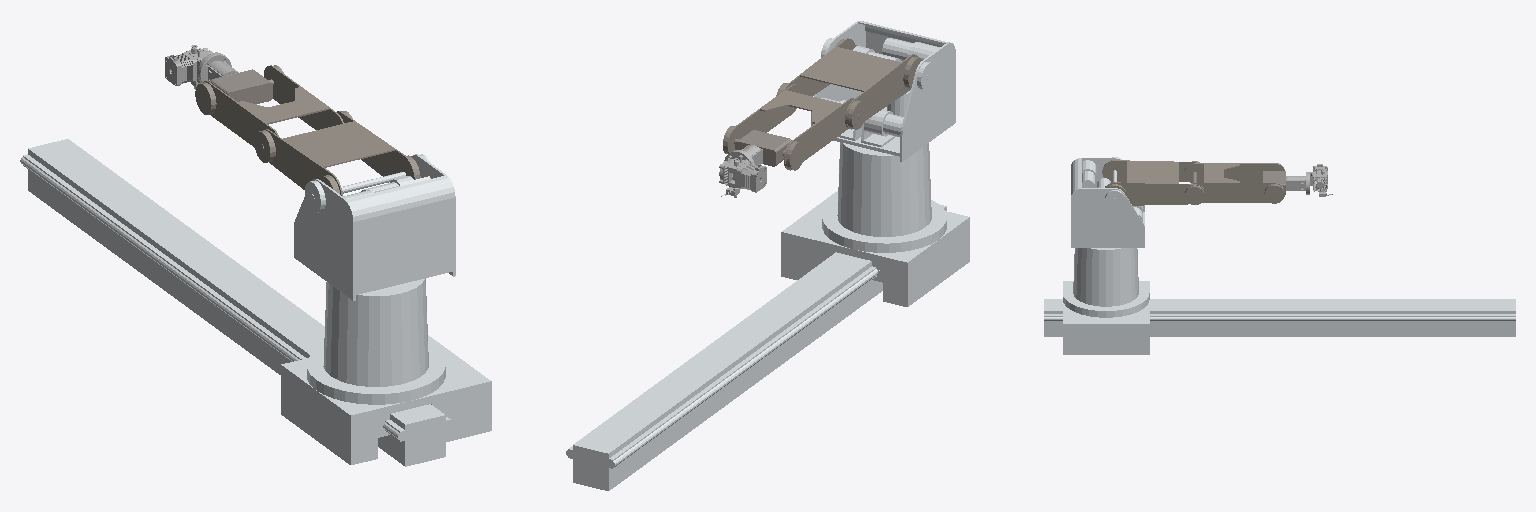
robot.urdf — scorbot:
<?xml version="1.0" encoding="utf-8"?>
<robot
  name="scorbot">
  <link name="world">
  </link>
  <link
    name="base_link">
    <inertial>
      <origin
        xyz="6.9389E-18 0.65 0.041357"
        rpy="0 0 0" />
      <mass
        value="24.144" />
      <inertia
        ixx="3.4129"
        ixy="-2.7635E-18"
        ixz="1.5076E-18"
        iyy="0.028252"
        iyz="3.1049E-17"
        izz="3.416" />
    </inertial>
    <visual>
      <origin
        xyz="0 0 0"
        rpy="0 0 0" />
      <geometry>
        <mesh
          filename="package://scorbot/meshes/slide_base_link.STL" />
      </geometry>
      <material
        name="">
        <color
          rgba="0.89804 0.91765 0.92941 1" />
      </material>
    </visual>
    <collision>
      <origin
        xyz="0 0 0"
        rpy="0 0 0" />
      <geometry>
        <mesh
          filename="package://scorbot/meshes/slide_base_link.STL" />
      </geometry>
    </collision>
  </link>
  <joint name="world_joint" type="fixed">
    <parent link="world" />
    <child link="base_link" />
  </joint>
  <link
    name="slide_base_link">
    <inertial>
      <origin
        xyz="-0.012271 0.012815 0"
        rpy="0 0 0" />
      <mass
        value="5.7681" />
      <inertia
        ixx="0.071205"
        ixy="-0.0043325"
        ixz="6.0569E-17"
        iyy="0.070116"
        iyz="2.4488E-17"
        izz="0.08178" />
    </inertial>
    <visual>
      <origin
        xyz="0 0 0"
        rpy="0 0 0" />
      <geometry>
        <mesh
          filename="package://scorbot/meshes/base_link.STL" />
      </geometry>
      <material
        name="">
        <color
          rgba="0.89804 0.91765 0.92941 1" />
      </material>
    </visual>
    <collision>
      <origin
        xyz="0 0 0"
        rpy="0 0 0" />
      <geometry>
        <mesh
          filename="package://scorbot/meshes/base_link.STL" />
      </geometry>
    </collision>
  </link>
  <joint
    name="slide_base_joint"
    type="prismatic">
    <origin
      xyz="0 0.17 0.096"
      rpy="1.5708 0 3.1416" />
    <parent
      link="base_link" />
    <child
      link="slide_base_link" />
    <axis
      xyz="0 0 1" />
    <limit
      lower="0"
      upper="0.9"
      effort="0"
      velocity="0" />
  </joint>
  <link
    name="body_link">
    <inertial>
      <origin
        xyz="-0.0024124 0.0019378 -0.070016"
        rpy="0 0 0" />
      <mass
        value="4.1847" />
      <inertia
        ixx="0.029582"
        ixy="0.00098745"
        ixz="0.0042693"
        iyy="0.027732"
        iyz="-0.00082029"
        izz="0.03323" />
    </inertial>
    <visual>
      <origin
        xyz="0 0 0"
        rpy="0 0 0" />
      <geometry>
        <mesh
          filename="package://scorbot/meshes/body_link.STL" />
      </geometry>
      <material
        name="">
        <color
          rgba="0.89804 0.91765 0.92941 1" />
      </material>
    </visual>
    <collision>
      <origin
        xyz="0 0 0"
        rpy="0 0 0" />
      <geometry>
        <mesh
          filename="package://scorbot/meshes/body_link.STL" />
      </geometry>
    </collision>
  </link>
  <joint
    name="body_joint"
    type="continuous">
    <origin
      xyz="0 0.354 0"
      rpy="-1.5708 -1.5708 0" />
    <parent
      link="slide_base_link" />
    <child
      link="body_link" />
    <axis
      xyz="0 0 1" />
    <dynamics damping="0.7" />
  </joint>
  <link
    name="shoulder_link">
    <inertial>
      <origin
        xyz="0.10172 0.0057759 -4.0246E-16"
        rpy="0 0 0" />
      <mass
        value="2.1816" />
      <inertia
        ixx="0.011823"
        ixy="-3.4979E-05"
        ixz="1.0635E-17"
        iyy="0.028073"
        iyz="1.3636E-17"
        izz="0.017919" />
    </inertial>
    <visual>
      <origin
        xyz="0 0 0"
        rpy="0 0 0" />
      <geometry>
        <mesh
          filename="package://scorbot/meshes/shoulder_link.STL" />
      </geometry>
      <material
        name="">
        <color
          rgba="0.64706 0.61961 0.58824 1" />
      </material>
    </visual>
    <collision>
      <origin
        xyz="0 0 0"
        rpy="0 0 0" />
      <geometry>
        <mesh
          filename="package://scorbot/meshes/shoulder_link.STL" />
      </geometry>
    </collision>
  </link>
  <joint
    name="shoulder_joint"
    type="continuous">
    <origin
      xyz="0.025 0 0"
      rpy="1.5708 0 0" />
    <parent
      link="body_link" />
    <child
      link="shoulder_link" />
    <axis
      xyz="0 0 1" />
    <dynamics damping="0.7" />
  </joint>
  <link
    name="elbow_link">
    <inertial>
      <origin
        xyz="0.1333 0.0044924 1.249E-16"
        rpy="0 0 0" />
      <mass
        value="1.3299" />
      <inertia
        ixx="0.0056088"
        ixy="0.00042004"
        ixz="-1.9107E-17"
        iyy="0.014028"
        iyz="5.212E-20"
        izz="0.009294" />
    </inertial>
    <visual>
      <origin
        xyz="0 0 0"
        rpy="0 0 0" />
      <geometry>
        <mesh
          filename="package://scorbot/meshes/elbow_link.STL" />
      </geometry>
      <material
        name="">
        <color
          rgba="0.64706 0.61961 0.58824 1" />
      </material>
    </visual>
    <collision>
      <origin
        xyz="0 0 0"
        rpy="0 0 0" />
      <geometry>
        <mesh
          filename="package://scorbot/meshes/elbow_link.STL" />
      </geometry>
    </collision>
  </link>
  <joint
    name="elbow_joint"
    type="continuous">
    <origin
      xyz="0.22 0 0"
      rpy="0 0 0" />
    <parent
      link="shoulder_link" />
    <child
      link="elbow_link" />
    <axis
      xyz="0 0 1" />
    <dynamics damping="0.7" />
  </joint>
  <link
    name="wrist_link">
    <inertial>
      <origin
        xyz="5.5511E-17 0.0016897 2.7756E-17"
        rpy="0 0 0" />
      <mass
        value="0.11142" />
      <inertia
        ixx="0.00015149"
        ixy="-3.4232E-21"
        ixz="4.5808E-20"
        iyy="0.00012081"
        iyz="3.5338E-20"
        izz="6.0971E-05" />
    </inertial>
    <visual>
      <origin
        xyz="0 0 0"
        rpy="0 0 0" />
      <geometry>
        <mesh
          filename="package://scorbot/meshes/wrist_link.STL" />
      </geometry>
      <material
        name="">
        <color
          rgba="0.64314 0.61569 0.6 1" />
      </material>
    </visual>
    <collision>
      <origin
        xyz="0 0 0"
        rpy="0 0 0" />
      <geometry>
        <mesh
          filename="package://scorbot/meshes/wrist_link.STL" />
      </geometry>
    </collision>
  </link>
  <joint
    name="wrist_joint"
    type="continuous">
    <origin
      xyz="0.22 0 0"
      rpy="0 0 1.5708" />
    <parent
      link="elbow_link" />
    <child
      link="wrist_link" />
    <axis
      xyz="0 0 1" />
    <dynamics damping="0.7" />
  </joint>
  <link
    name="roll_wrist_link">
    <inertial>
      <origin
        xyz="-0.00011221 -0.0098074 0.096196"
        rpy="0 0 0" />
      <mass
        value="0.3891" />
      <inertia
        ixx="0.0013614"
        ixy="0.0"
        ixz="0.0"
        iyy="0.00015489"
        iyz="0.0"
        izz="0.0010547" />
    </inertial>
    <visual>
      <origin
        xyz="0 0 0"
        rpy="0 0 0" />
      <geometry>
        <mesh
          filename="package://scorbot/meshes/roll_wrist_link.STL" />
      </geometry>
      <material
        name="">
        <color
          rgba="0.75294 0.75294 0.75294 0.5" />
      </material>
    </visual>
    <collision>
      <origin
        xyz="0 0 0"
        rpy="0 0 0" />
      <geometry>
        <mesh
          filename="package://scorbot/meshes/roll_wrist_link.STL" />
      </geometry>
    </collision>
  </link>
  <joint
    name="roll_wrist_joint"
    type="continuous">
    <origin
      xyz="0 0 0"
      rpy="1.5708 0 0" />
    <parent
      link="wrist_link" />
    <child
      link="roll_wrist_link" />
    <axis
      xyz="0 0 1" />
    <dynamics damping="0.7" />
  </joint>
  <link
    name="extruder_link">
    <inertial>
      <origin
        xyz="0.0001115 0 -0.004905"
        rpy="0 0 0" />
      <mass
        value="0.00058199" />
      <inertia
        ixx="0.001"
        ixy="0.0"
        ixz="0.0"
        iyy="0.01"
        iyz="0.0"
        izz="0.01" />
    </inertial>
    <visual>
      <origin
        xyz="0 0 0"
        rpy="0 0 0" />
      <geometry>
        <mesh
          filename="package://scorbot/meshes/extruder_link.STL" />
      </geometry>
      <material
        name="">
        <color
          rgba="1 0 0 1" />
      </material>
    </visual>
    <collision>
      <origin
        xyz="0 0 0"
        rpy="0 0 0" />
      <geometry>
        <mesh
          filename="package://scorbot/meshes/extruder_link.STL" />
      </geometry>
    </collision>
  </link>
  <joint
    name="extruder_screw_joint"
    type="continuous">
    <origin
      xyz="0 -0.011037 0.126"
      rpy="-1.5708 3.1416 0" />
    <parent
      link="roll_wrist_link" />
    <child
      link="extruder_link" />
    <axis
      xyz="0 0 1" />
    <dynamics damping="0.7" />
  </joint>

  <link name="hotend_link">
  </link>
  <joint name="hotend_joint" type="fixed">
    <origin xyz="-0.049 -0.0137 0.132"
            rpy="0 -1.5708 0" />
    <parent link="roll_wrist_link" />
    <child link="hotend_link"/>
  </joint>

  <ros2_control name="GazeboSimSystem" type="system">

    <hardware>
      <plugin>gazebo_ros2_control/GazeboSystem</plugin>
    </hardware>

    <joint name="slide_base_joint">
      <command_interface name="position" />
      <state_interface name="position">
        <param name="initial_value">0.0</param>
      </state_interface>
      <state_interface name="velocity" />
    </joint>

    <joint name="body_joint">
      <command_interface name="position" />
      <state_interface name="position">
        <param name="initial_value">0.0</param>
      </state_interface>
      <state_interface name="velocity" />
    </joint>

    <joint name="shoulder_joint">
      <command_interface name="position" />
      <state_interface name="position">
        <param name="initial_value">0.0</param>
      </state_interface>
      <state_interface name="velocity" />
    </joint>

    <joint name="elbow_joint">
      <command_interface name="position" />
      <state_interface name="position">
        <param name="initial_value">0.0</param>
      </state_interface>
      <state_interface name="velocity" />
    </joint>

    <joint name="wrist_joint">
      <command_interface name="position" />
      <state_interface name="position">
        <param name="initial_value">0.0</param>
      </state_interface>
      <state_interface name="velocity" />
    </joint>

    <joint name="roll_wrist_joint">
      <command_interface name="position" />
      <state_interface name="position">
        <param name="initial_value">0.0</param>
      </state_interface>
      <state_interface name="velocity" />
    </joint>

    <joint name="extruder_screw_joint">
      <command_interface name="position" />
      <state_interface name="position">
        <param name="initial_value">0.0</param>
      </state_interface>
      <state_interface name="velocity" />
    </joint>

  </ros2_control>
  <gazebo>
    <plugin filename="libgazebo_ros2_control.so" name="gazebo_ros2_control">
        <parameters>[local-path]/tesis_ws/src/scorbot/config/scorbot_er_v_controllers.yaml</parameters>
    </plugin>
</gazebo>

</robot>

--- Facts derived from the render (not from the file) ---
The picture shows the robot from 3 angles, left to right: view 1: azimuth 30°, elevation 25°; view 2: azimuth 150°, elevation 25°; view 3: azimuth 270°, elevation 25°; orthographic projection.
Robot: scorbot — 10 links, 9 joints (6 continuous, 1 prismatic, 2 fixed); root link world; default pose: every joint at zero.
Visible links, largest first — view 1: base_link, slide_base_link, body_link, shoulder_link, elbow_link, roll_wrist_link, wrist_link; view 2: base_link, slide_base_link, body_link, shoulder_link, elbow_link, roll_wrist_link, wrist_link; view 3: base_link, slide_base_link, body_link, shoulder_link, elbow_link, roll_wrist_link.
Boxes of the visible links, left/top/right/bottom form: base_link: left=20, top=139, right=452, bottom=466; slide_base_link: left=281, top=278, right=491, bottom=464; body_link: left=294, top=154, right=455, bottom=300; shoulder_link: left=254, top=111, right=420, bottom=195; elbow_link: left=195, top=65, right=343, bottom=147; roll_wrist_link: left=165, top=45, right=238, bottom=89; wrist_link: left=202, top=69, right=273, bottom=103; base_link: left=566, top=204, right=946, bottom=490; slide_base_link: left=781, top=142, right=969, bottom=306; body_link: left=811, top=21, right=955, bottom=161; shoulder_link: left=776, top=38, right=922, bottom=129; elbow_link: left=723, top=84, right=853, bottom=170; roll_wrist_link: left=719, top=145, right=766, bottom=197; wrist_link: left=734, top=130, right=798, bottom=166; base_link: left=1044, top=299, right=1515, bottom=336; slide_base_link: left=1063, top=248, right=1149, bottom=354; body_link: left=1071, top=157, right=1144, bottom=247; shoulder_link: left=1102, top=160, right=1205, bottom=205; elbow_link: left=1184, top=163, right=1284, bottom=203; roll_wrist_link: left=1286, top=164, right=1332, bottom=196.
Bounding box of the posed robot: 0.28 × 1.3 × 0.4855 m (x, y, z).
8 mesh visuals loaded from 8 distinct referenced files (8 binary STL).